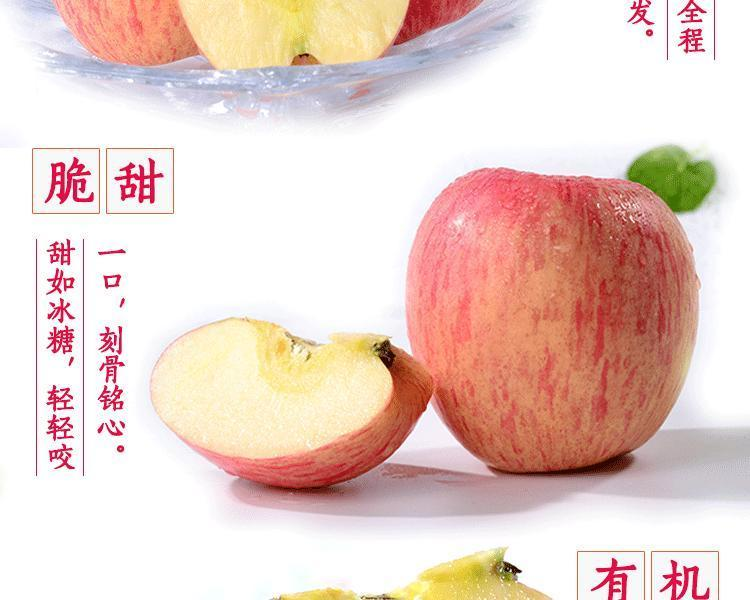apple: (403, 169, 700, 476), (52, 2, 208, 69)
